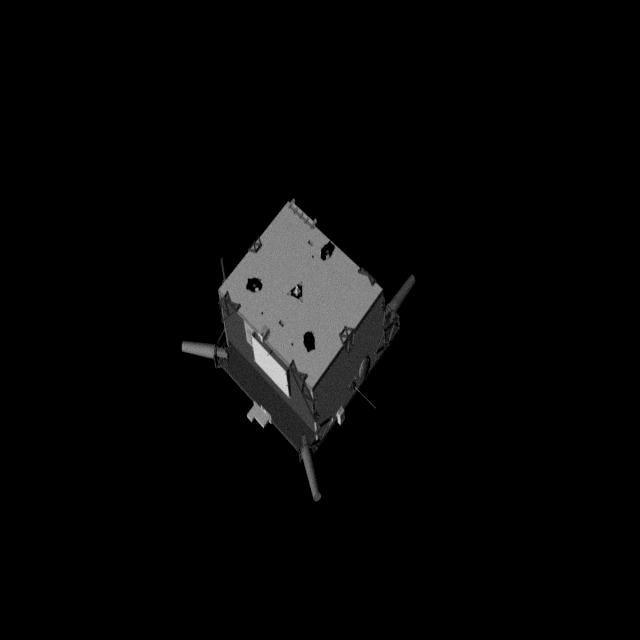medium_debris: (196, 200, 438, 502)
